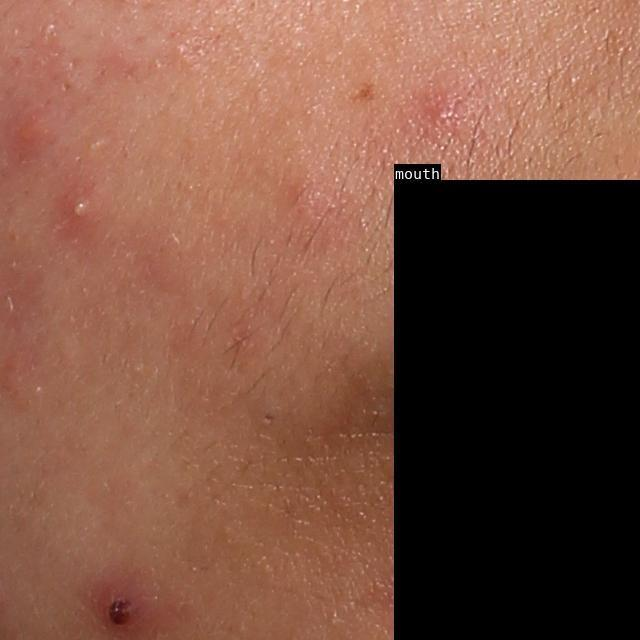nevus: (346, 80, 378, 103)
papule: (88, 571, 156, 634), (281, 174, 331, 230), (12, 108, 54, 154)
pustule: (63, 194, 94, 229)
